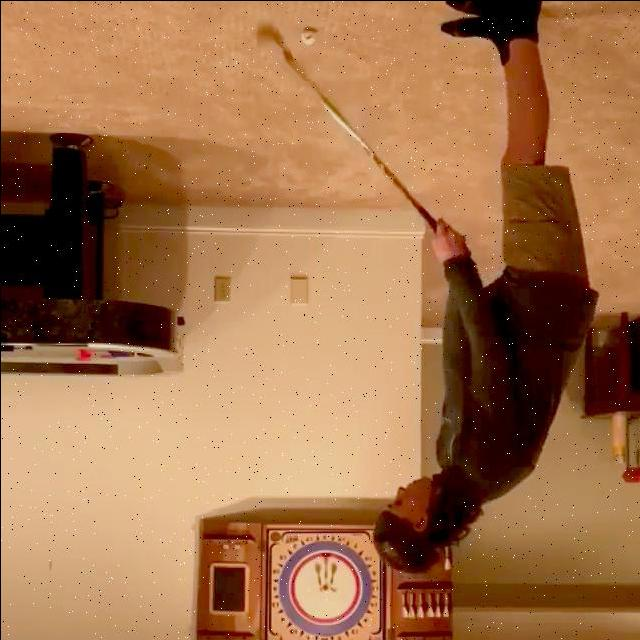golf ball: (298, 27, 316, 45)
golf club-handle: (251, 18, 474, 260)
golf club-head: (254, 22, 282, 49)
